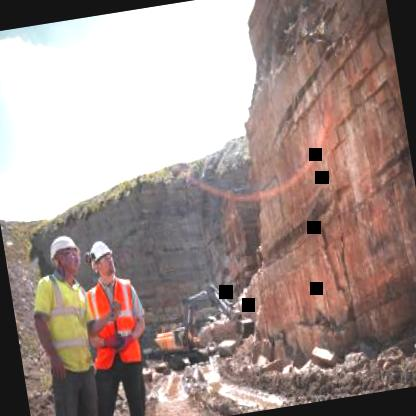helmet: (44, 229, 84, 280), (84, 233, 118, 283)
